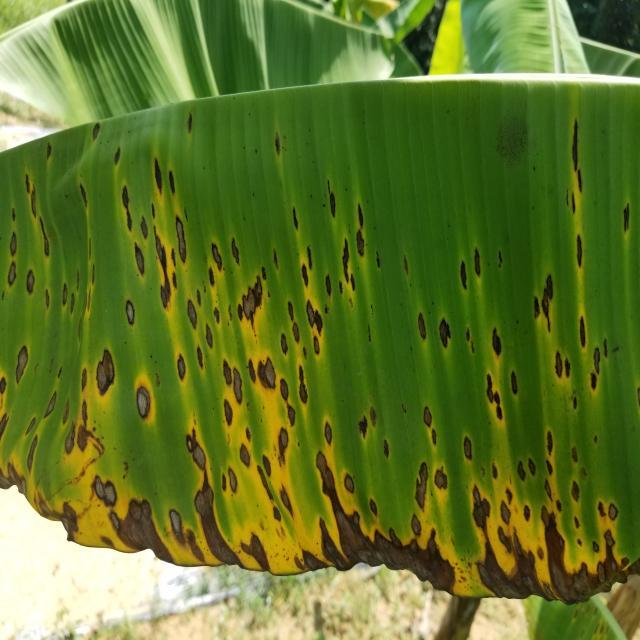Early_rust: (0, 80, 640, 605)
